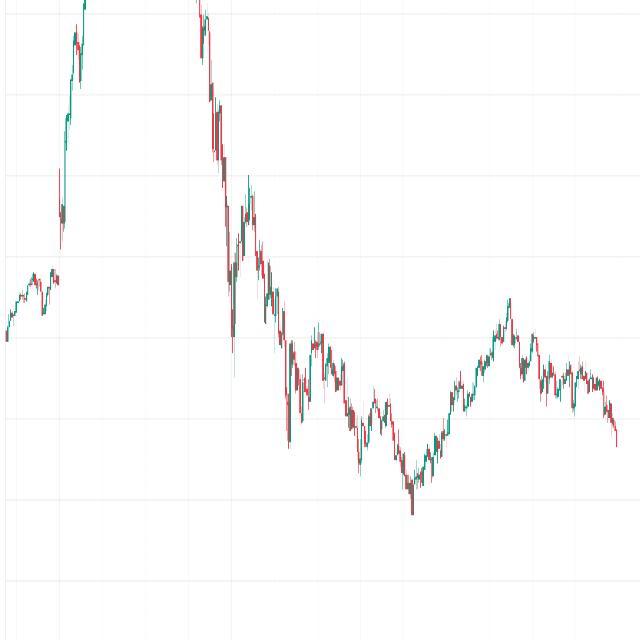Channel-up: (411, 259, 523, 537)
